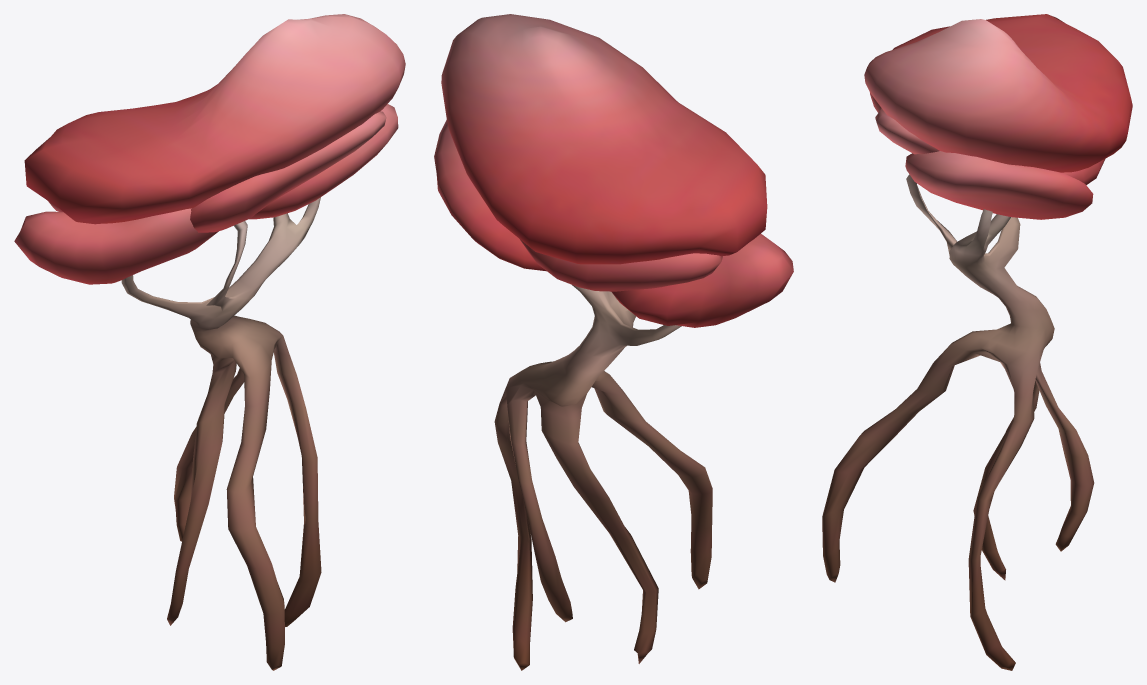
The model's file is Tree4.fbx.
3 views of the same model, side by side, from view 1: azimuth 30°, elevation 25°; view 2: azimuth 150°, elevation 25°; view 3: azimuth 270°, elevation 25° (orthographic). The views are drawn at different scales.
Visible parts, largest first — view 1: Tree4; view 2: Tree4; view 3: Tree4.
Part boxes in pixels (bbox=[...]): Tree4: bbox=[14, 14, 405, 670]; Tree4: bbox=[434, 14, 793, 670]; Tree4: bbox=[822, 14, 1132, 670].
Bounding box in the file's own units: 676 × 1132 × 493.
1 material, 1 textured.
